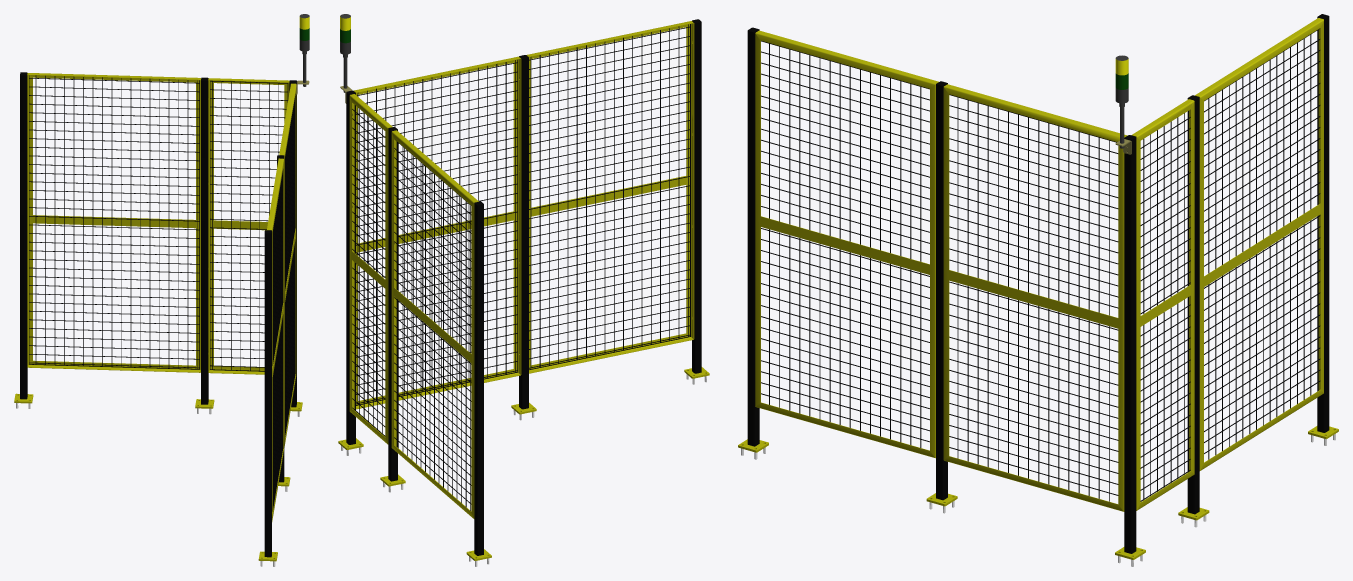
File: iron wall_02.FBX
3 views of the same model, side by side, from view 1: azimuth 30°, elevation 25°; view 2: azimuth 150°, elevation 25°; view 3: azimuth 270°, elevation 25° (orthographic). The views are drawn at different scales.
Parts seen in each view (by area): view 1: VMS_Base_3; view 2: VMS_Base_3; view 3: VMS_Base_3.
Boxes of the visible parts, x1=… form: VMS_Base_3: x1=14, y1=14, x2=309, y2=566; VMS_Base_3: x1=338, y1=14, x2=709, y2=566; VMS_Base_3: x1=738, y1=14, x2=1338, y2=566.
Bounding box in the file's own units: 99.48 × 186 × 174.
